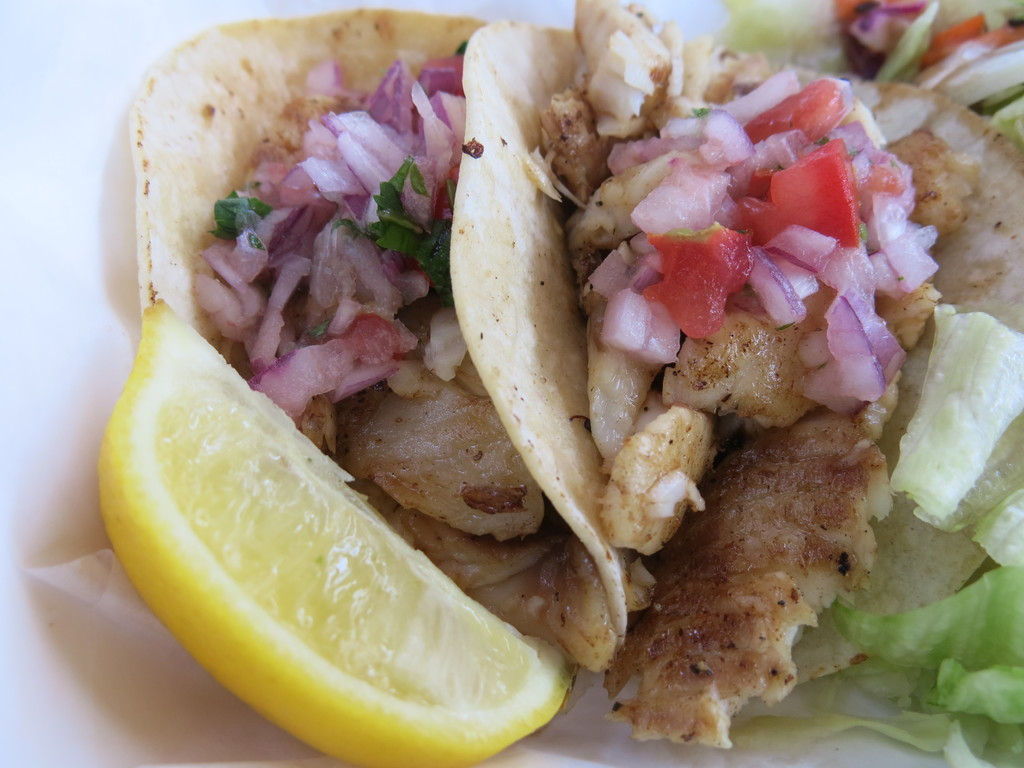taco: (125, 4, 625, 675), (550, 16, 1023, 717)
